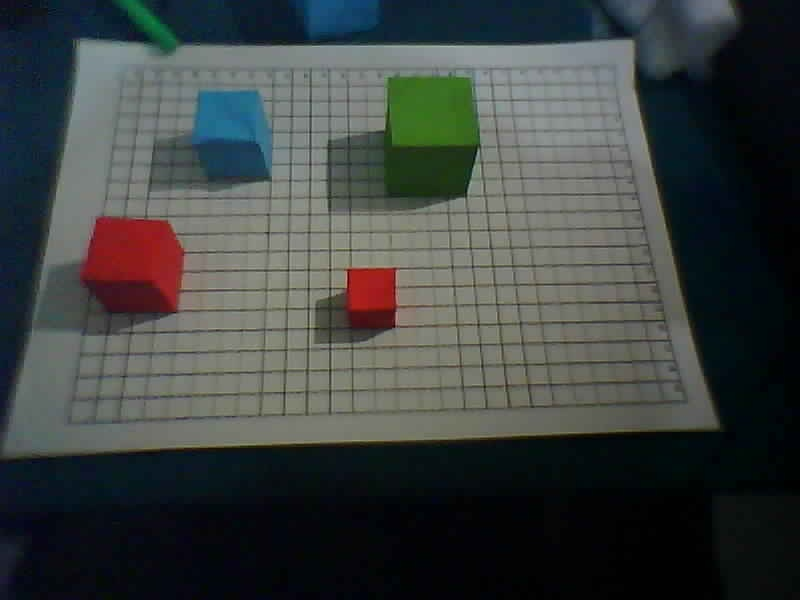LB: (65, 420, 73, 426)
LT: (122, 65, 130, 71)
RB: (681, 397, 689, 403)
RT: (611, 62, 619, 68)
